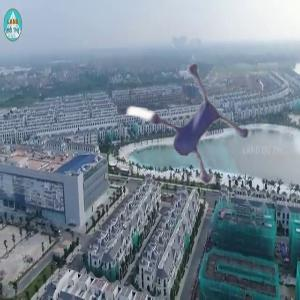drone: (107, 35, 275, 203)
